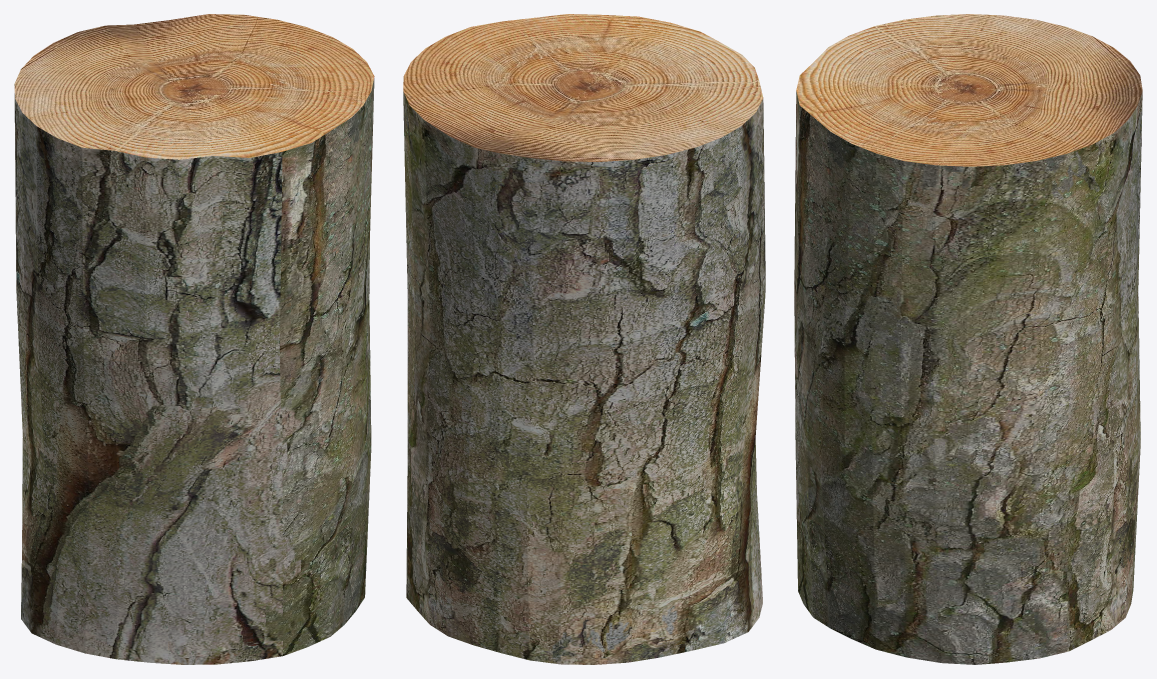
The model's file is Tree_stump.obj.
The picture shows the model from 3 angles, left to right: view 1: azimuth 30°, elevation 25°; view 2: azimuth 150°, elevation 25°; view 3: azimuth 270°, elevation 25°; orthographic projection.
Parts seen in each view (by area): view 1: Cylinder; view 2: Cylinder; view 3: Cylinder.
Part boxes in pixels (x1=…): Cylinder: x1=14, y1=14, x2=374, y2=664; Cylinder: x1=403, y1=14, x2=765, y2=664; Cylinder: x1=794, y1=14, x2=1142, y2=664.
Size of the model in its own units: 2.02 by 3.04 by 1.91.
Materials: 2 (2 with a texture image).
